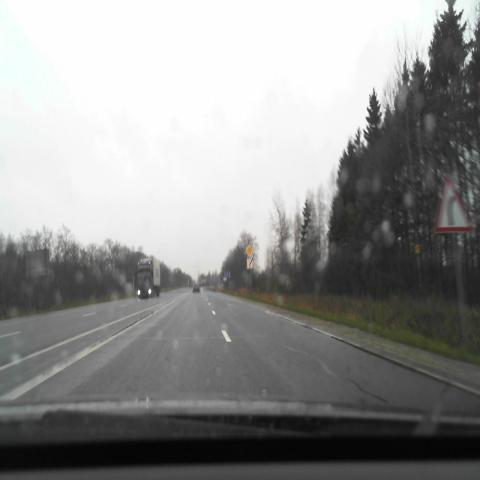1_11_1: (434, 175, 474, 233)
